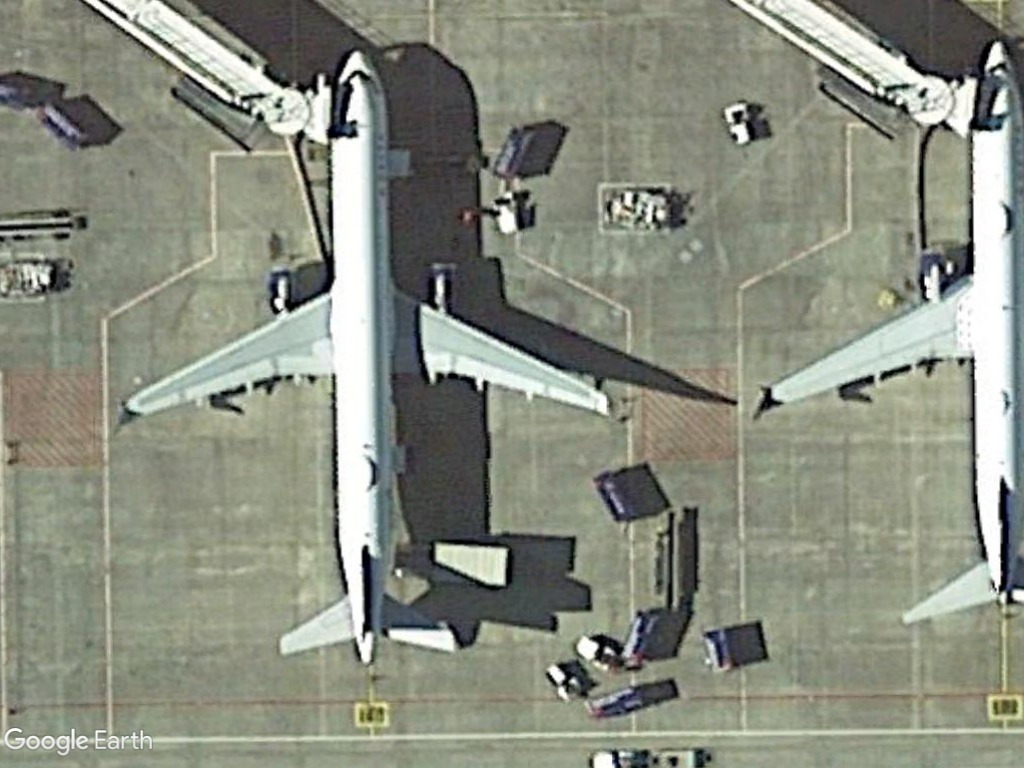airliner: (109, 42, 620, 669)
